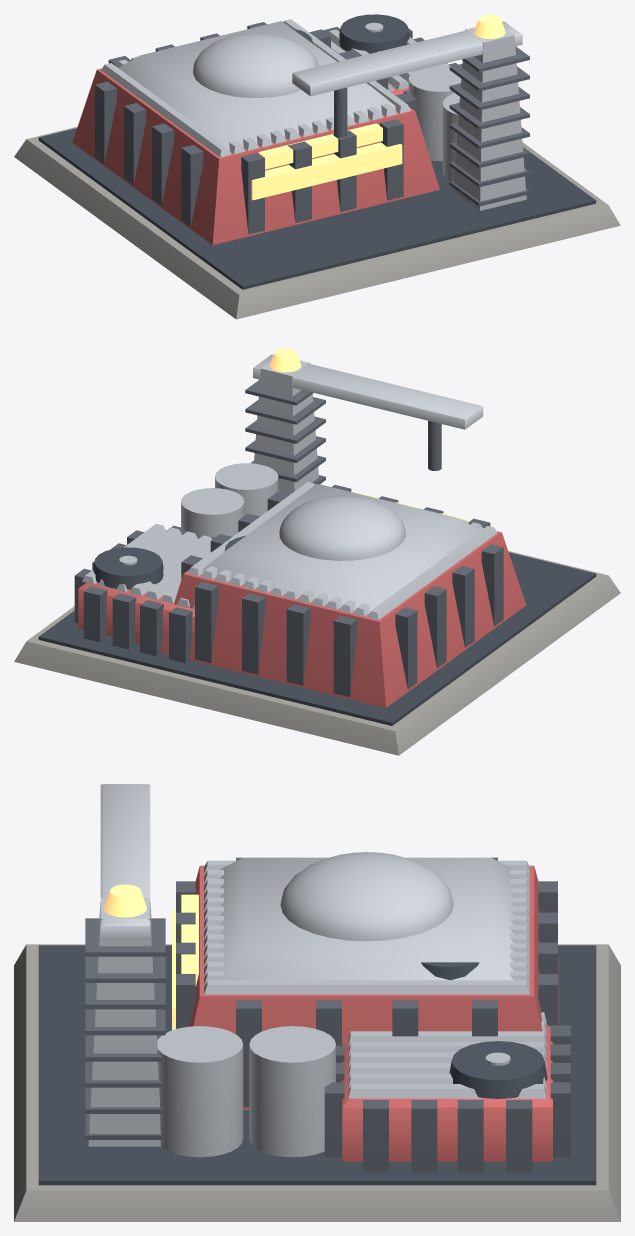
Rendered from sfact.glb.
3 renders of one model, top to bottom at view 1: azimuth 30°, elevation 25°; view 2: azimuth 150°, elevation 25°; view 3: azimuth 270°, elevation 25°, orthographic. The views are drawn at different scales.
Parts seen in each view (by area): view 1: Hull; view 2: Hull; view 3: Hull.
Boxes of the visible parts, bbox=[...] form: Hull: bbox=[14, 14, 620, 319]; Hull: bbox=[14, 348, 620, 755]; Hull: bbox=[14, 784, 620, 1221].
Size of the model in its own units: 5.29 by 2.6 by 5.29.
